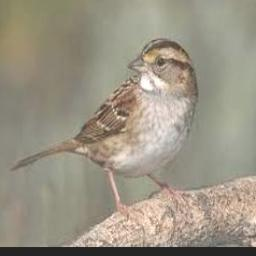Sparrow: (9, 39, 198, 220)
